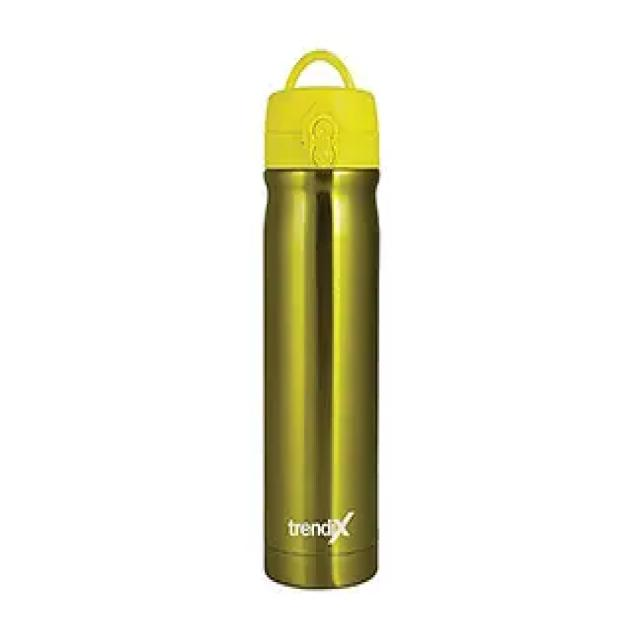Termos: (262, 48, 379, 592)
